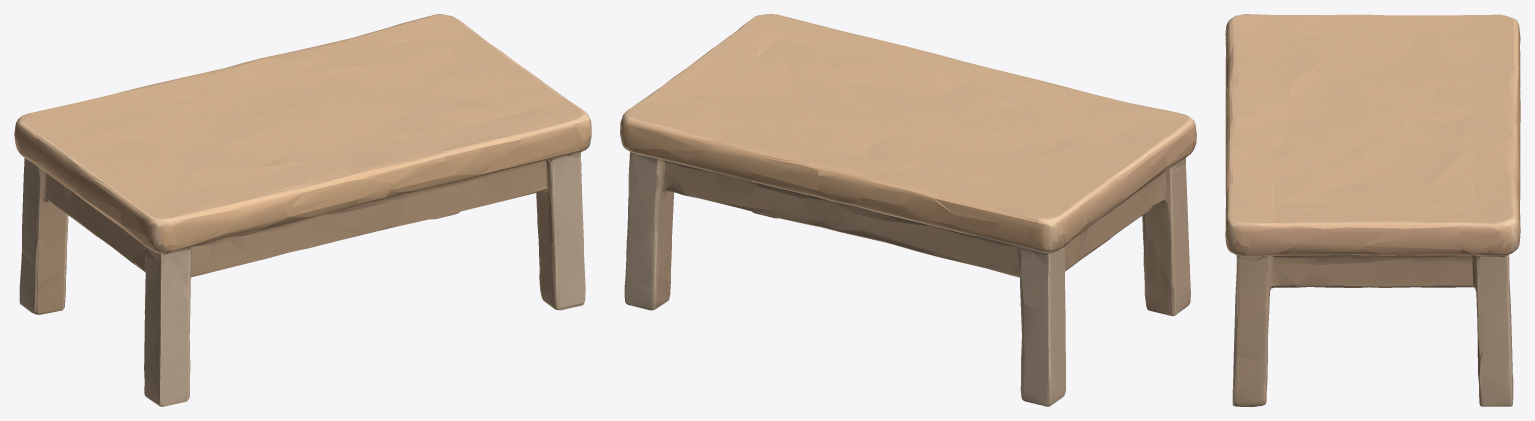
File: raw_low_table.glb
3 views of the same model, side by side, from view 1: azimuth 30°, elevation 25°; view 2: azimuth 150°, elevation 25°; view 3: azimuth 270°, elevation 25° (orthographic).
Bounding box in the file's own units: 1.9 × 0.7768 × 1.11.
Materials: 1 (1 with a texture image).
